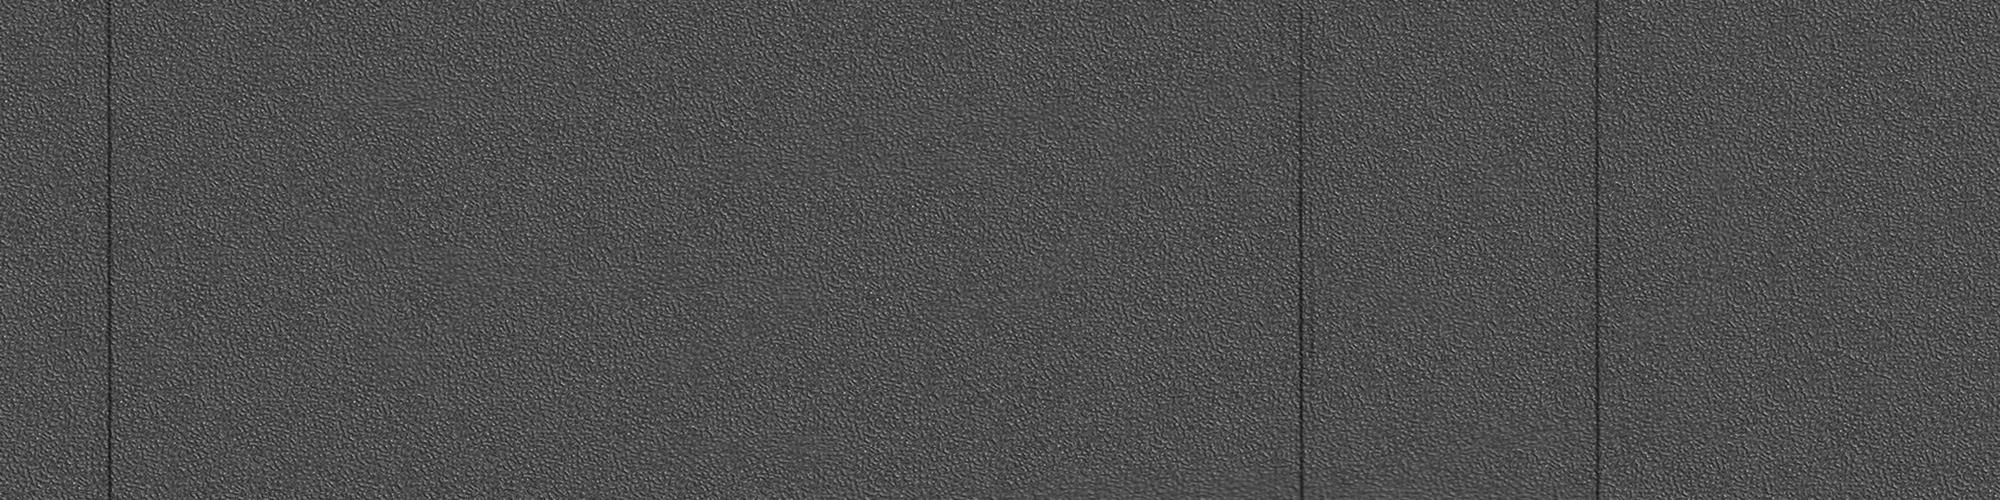DieDrag: (1282, 5, 1328, 500), (1575, 4, 1619, 497), (94, 1, 128, 497)
